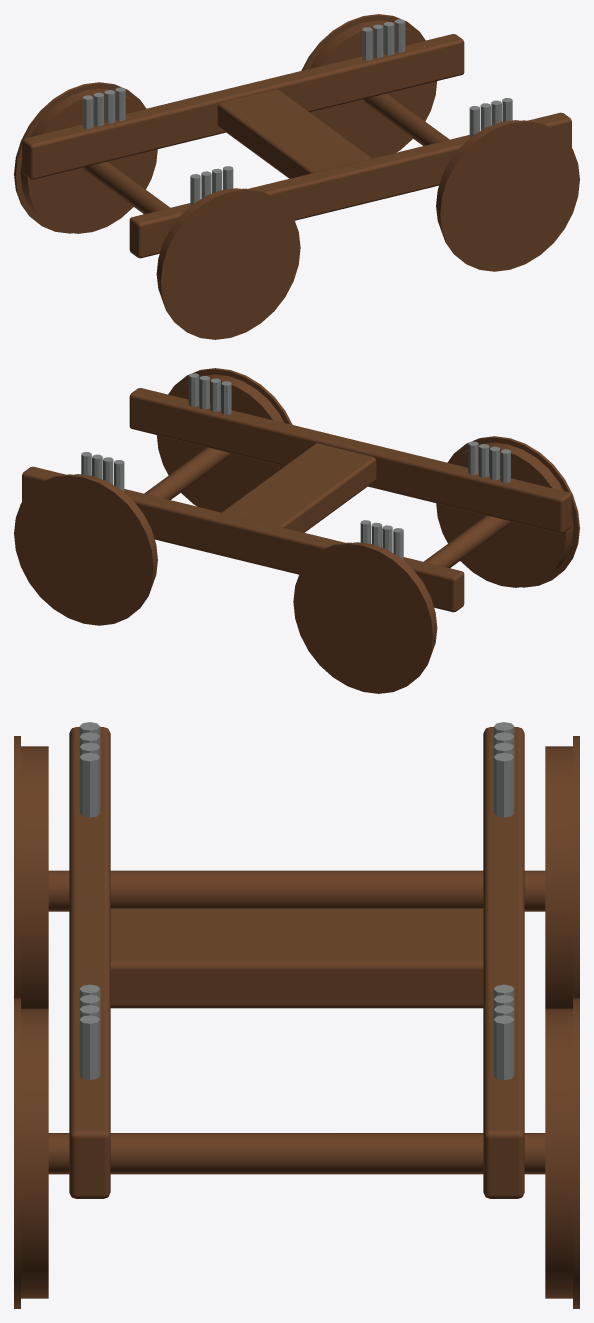
File: train_bogie.glb
3 renders of one model, top to bottom at view 1: azimuth 30°, elevation 25°; view 2: azimuth 150°, elevation 25°; view 3: azimuth 270°, elevation 25°, orthographic. The views are drawn at different scales.
Parts seen in each view (by area): view 1: rahmen1, kranz0.9-1, kranz-0.9-1, rahmen-1, rad-0.91, quer, rad0.91, achse-0.9, achse0.9, kranz-0.91, kranz0.91, rad-0.9-1 (+1 smaller); view 2: rahmen-1, kranz0.91, kranz-0.91, rahmen1, rad-0.9-1, quer, rad0.9-1, achse-0.9, achse0.9, kranz-0.9-1, kranz0.9-1, rad-0.91 (+1 smaller); view 3: quer, achse0.9, achse-0.9, rahmen-1, rahmen1, rad0.9-1, rad0.91, rad-0.9-1, rad-0.91, kranz0.9-1, kranz0.91, kranz-0.9-1 (+5 smaller).
Boxes of the visible parts, bbox=[...] form: rahmen1: bbox=[22, 34, 464, 179]; kranz0.9-1: bbox=[438, 120, 579, 271]; kranz-0.9-1: bbox=[159, 188, 300, 339]; rahmen-1: bbox=[129, 112, 571, 258]; rad-0.91: bbox=[20, 88, 157, 233]; quer: bbox=[217, 89, 372, 178]; rad0.91: bbox=[309, 20, 437, 158]; achse-0.9: bbox=[84, 161, 169, 214]; achse0.9: bbox=[363, 93, 449, 145]; kranz-0.91: bbox=[14, 82, 146, 233]; kranz0.91: bbox=[301, 14, 425, 70]; rad-0.9-1: bbox=[156, 188, 240, 294]; rahmen-1: bbox=[129, 388, 571, 533]; kranz0.91: bbox=[14, 474, 155, 625]; kranz-0.91: bbox=[293, 542, 434, 693]; rahmen1: bbox=[22, 466, 464, 612]; rad-0.9-1: bbox=[436, 442, 573, 587]; quer: bbox=[221, 443, 376, 532]; rad0.9-1: bbox=[156, 374, 284, 512]; achse-0.9: bbox=[424, 515, 509, 568]; achse0.9: bbox=[144, 447, 230, 499]; kranz-0.9-1: bbox=[447, 436, 579, 587]; kranz0.9-1: bbox=[168, 368, 292, 424]; rad-0.91: bbox=[353, 542, 437, 648]; quer: bbox=[110, 908, 483, 1008]; achse0.9: bbox=[48, 1133, 545, 1174]; achse-0.9: bbox=[48, 870, 545, 911]; rahmen-1: bbox=[69, 727, 110, 1198]; rahmen1: bbox=[483, 727, 524, 1198]; rad0.9-1: bbox=[21, 1008, 48, 1298]; rad0.91: bbox=[545, 1008, 572, 1298]; rad-0.9-1: bbox=[21, 746, 48, 1008]; rad-0.91: bbox=[545, 746, 572, 1008]; kranz0.9-1: bbox=[14, 998, 20, 1308]; kranz0.91: bbox=[573, 998, 579, 1308]; kranz-0.9-1: bbox=[14, 736, 20, 998].
Size of the model in its own units: 2.8 by 0.93 by 1.64.
